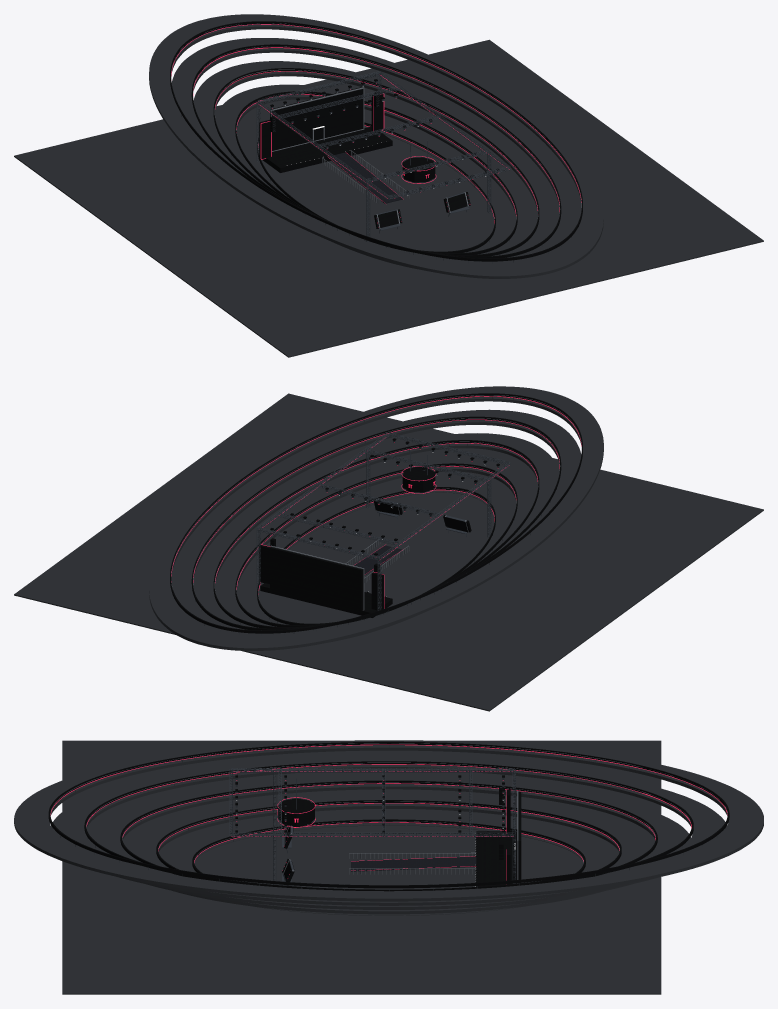
The model's file is tt-arena-architecture.glb.
3 views of the same model, one above another, from view 1: azimuth 30°, elevation 25°; view 2: azimuth 150°, elevation 25°; view 3: azimuth 270°, elevation 25° (orthographic). The views are drawn at different scales.
Visible parts, largest first — view 1: Charcoal concrete, Powder coated black, Brushed structural steel, Crimson LED strips, Worn aluminium edges, Polished ramp panels, Suspended octagonal scoreboard; view 2: Charcoal concrete, Powder coated black, Brushed structural steel, Crimson LED strips, Worn aluminium edges, Suspended octagonal scoreboard; view 3: Charcoal concrete, Powder coated black, Brushed structural steel, Crimson LED strips, Worn aluminium edges, Polished ramp panels, Suspended octagonal scoreboard.
Boxes of the visible parts, x1,y1,x2,y2 form: Charcoal concrete: (14,14,763,357); Powder coated black: (170,21,582,261); Brushed structural steel: (174,25,578,263); Crimson LED strips: (171,24,581,227); Worn aluminium edges: (171,23,581,229); Polished ramp panels: (327,152,402,203); Suspended octagonal scoreboard: (402,157,435,182); Charcoal concrete: (14,386,763,711); Powder coated black: (170,393,582,633); Brushed structural steel: (174,397,571,635); Crimson LED strips: (171,396,581,608); Worn aluminium edges: (171,395,581,610); Suspended octagonal scoreboard: (402,467,435,492); Charcoal concrete: (14,740,763,994); Powder coated black: (48,741,729,891); Brushed structural steel: (52,745,725,890); Crimson LED strips: (50,744,727,880); Worn aluminium edges: (50,743,727,883); Polished ramp panels: (351,856,476,871); Suspended octagonal scoreboard: (278,798,314,826).
Size of the model in its own units: 110 by 17.6 by 138.
Materials: 7 (4 with a texture image).
